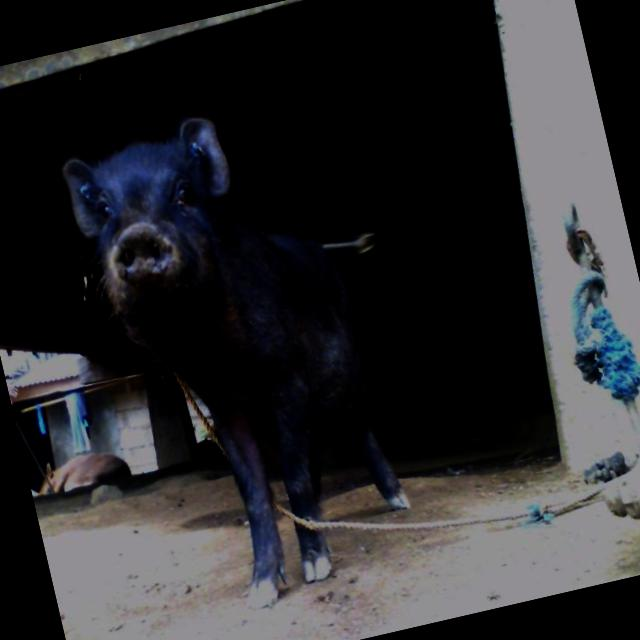pig: (61, 117, 408, 606)
